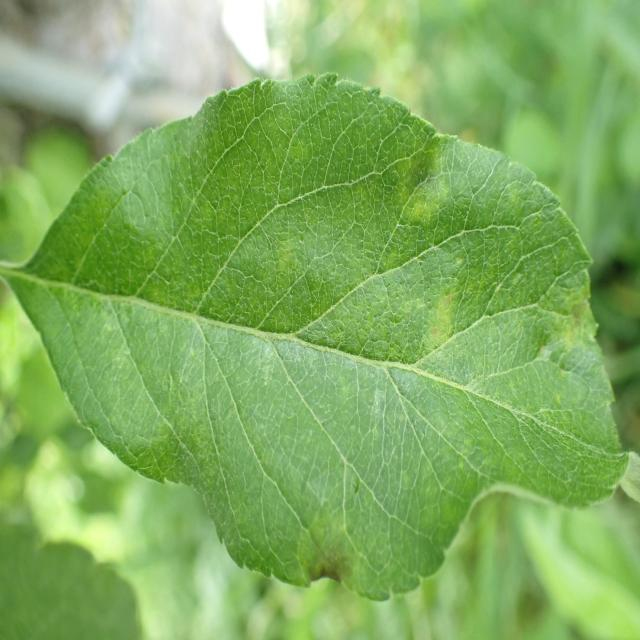scab: (72, 133, 598, 599)
